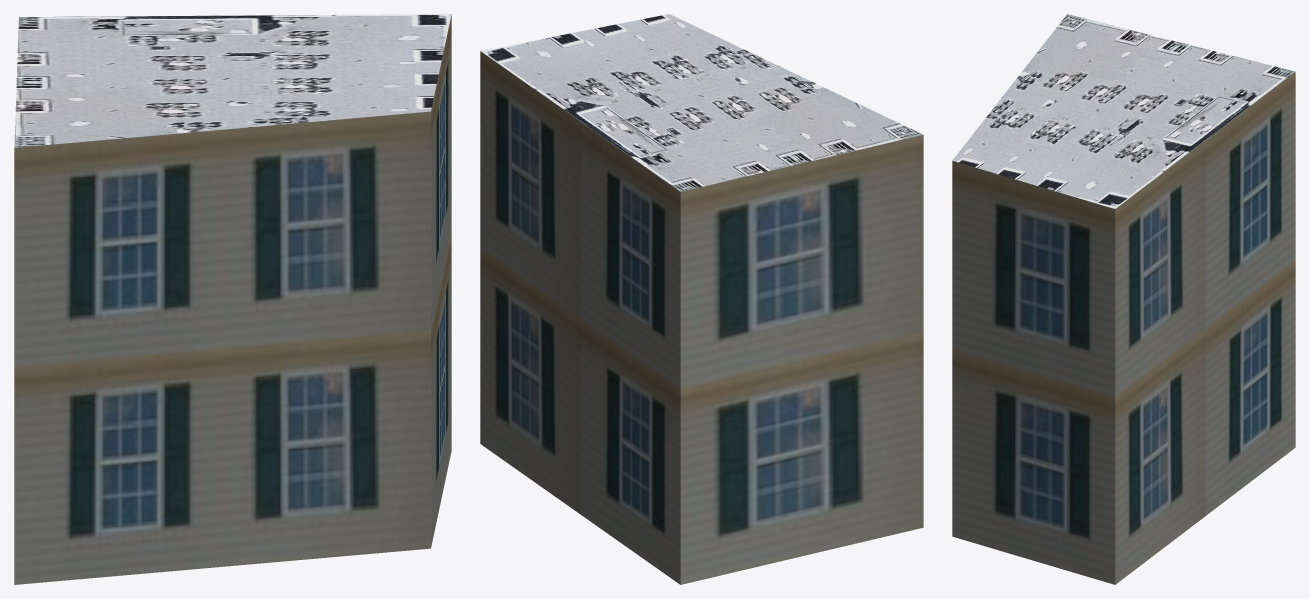
Rendered from ResTex__4013.fbx.
3 views of the same model, side by side, from view 1: azimuth 30°, elevation 25°; view 2: azimuth 150°, elevation 25°; view 3: azimuth 270°, elevation 25° (orthographic). The views are drawn at different scales.
Parts seen in each view (by area): view 1: CityEngineMaterial_7_m, CityEngineMaterial_4_m; view 2: CityEngineMaterial_7_m, CityEngineMaterial_4_m; view 3: CityEngineMaterial_7_m, CityEngineMaterial_4_m.
Boxes of the visible parts, x1=… form: CityEngineMaterial_7_m: x1=14, y1=14, x2=451, y2=584; CityEngineMaterial_4_m: x1=14, y1=14, x2=451, y2=147; CityEngineMaterial_7_m: x1=480, y1=51, x2=923, y2=584; CityEngineMaterial_4_m: x1=481, y1=14, x2=922, y2=191; CityEngineMaterial_7_m: x1=952, y1=72, x2=1295, y2=584; CityEngineMaterial_4_m: x1=952, y1=14, x2=1295, y2=208.
Bounding box in the file's own units: 6.68 × 6 × 4.97.
2 materials, 2 textured.
